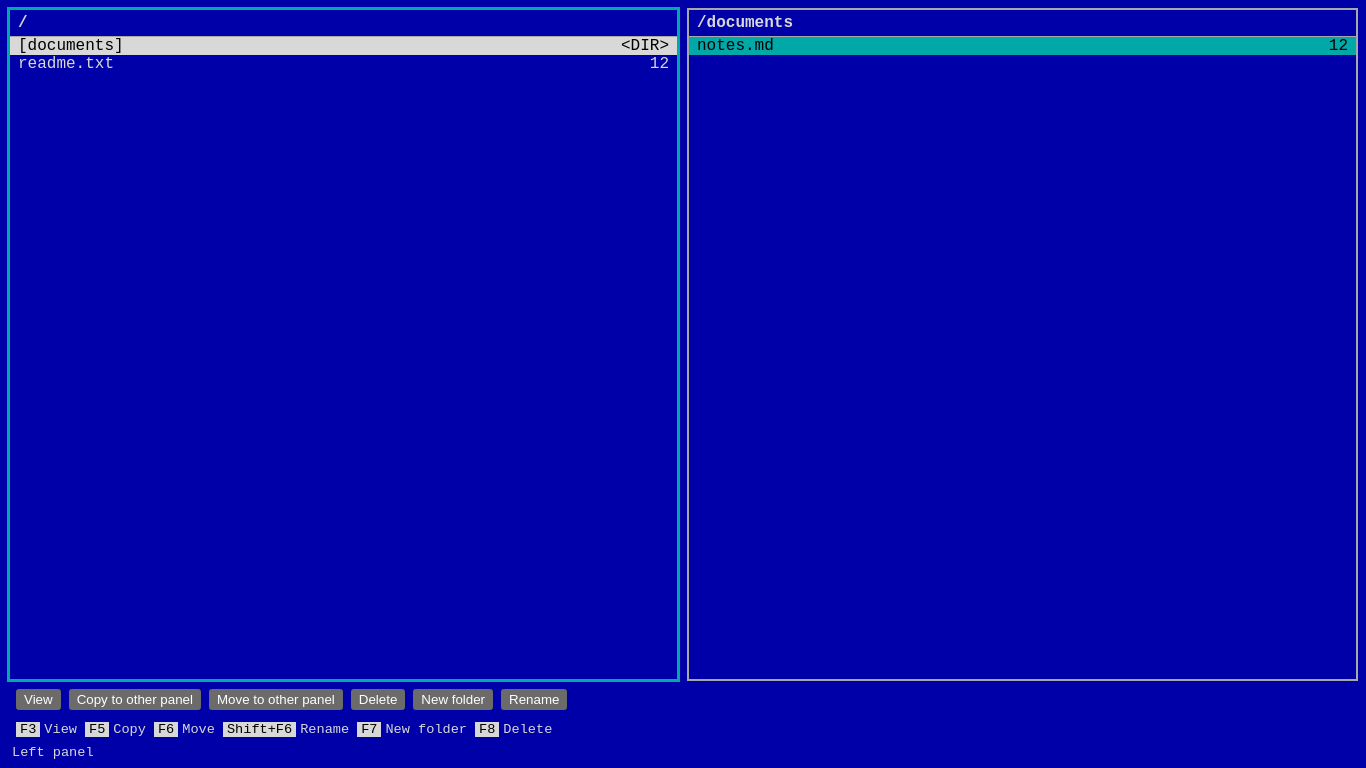
Test: §REQ:TWO-PNL-NVGT-OOX-070 creating a new folder from the active panel › §REQ:TWO-PNL-NVGT-OOX-070 the folder is created in the folder the ACTIVE panel shows
Click the element named "right panel" at (1022, 344), box x1=687 y1=8 x2=1358 y2=681
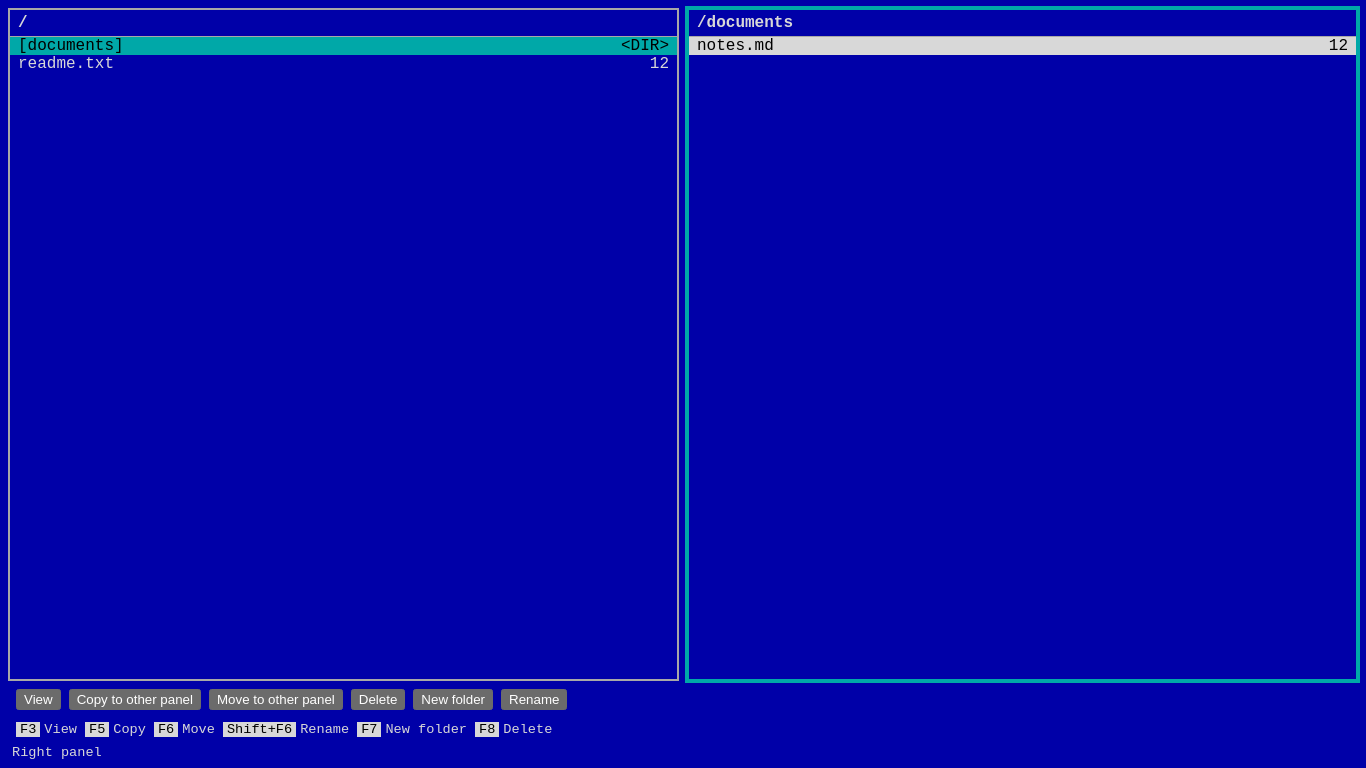
Click the button "New folder" at (453, 700), box x1=413 y1=689 x2=493 y2=710
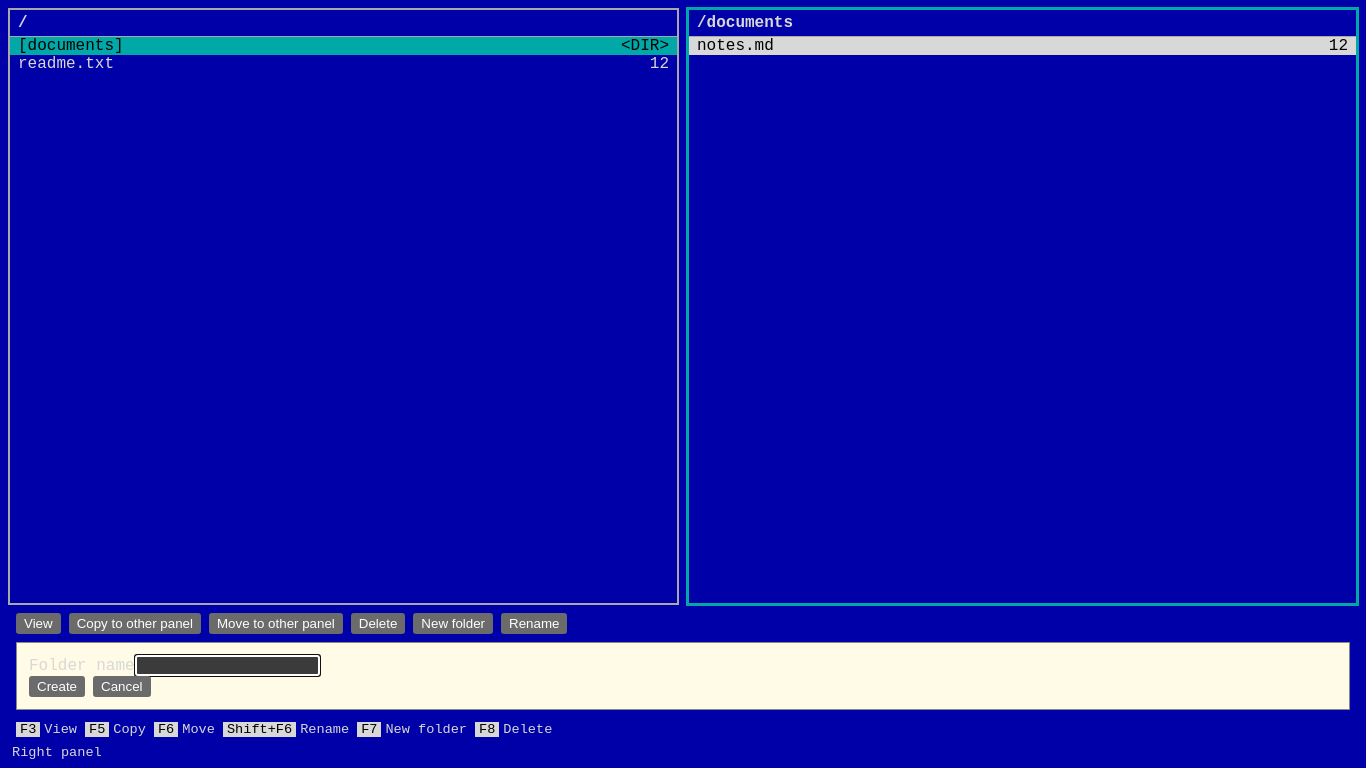
Type "drafts" into the field labelled "Folder name" at (227, 666), box x1=135 y1=655 x2=320 y2=676
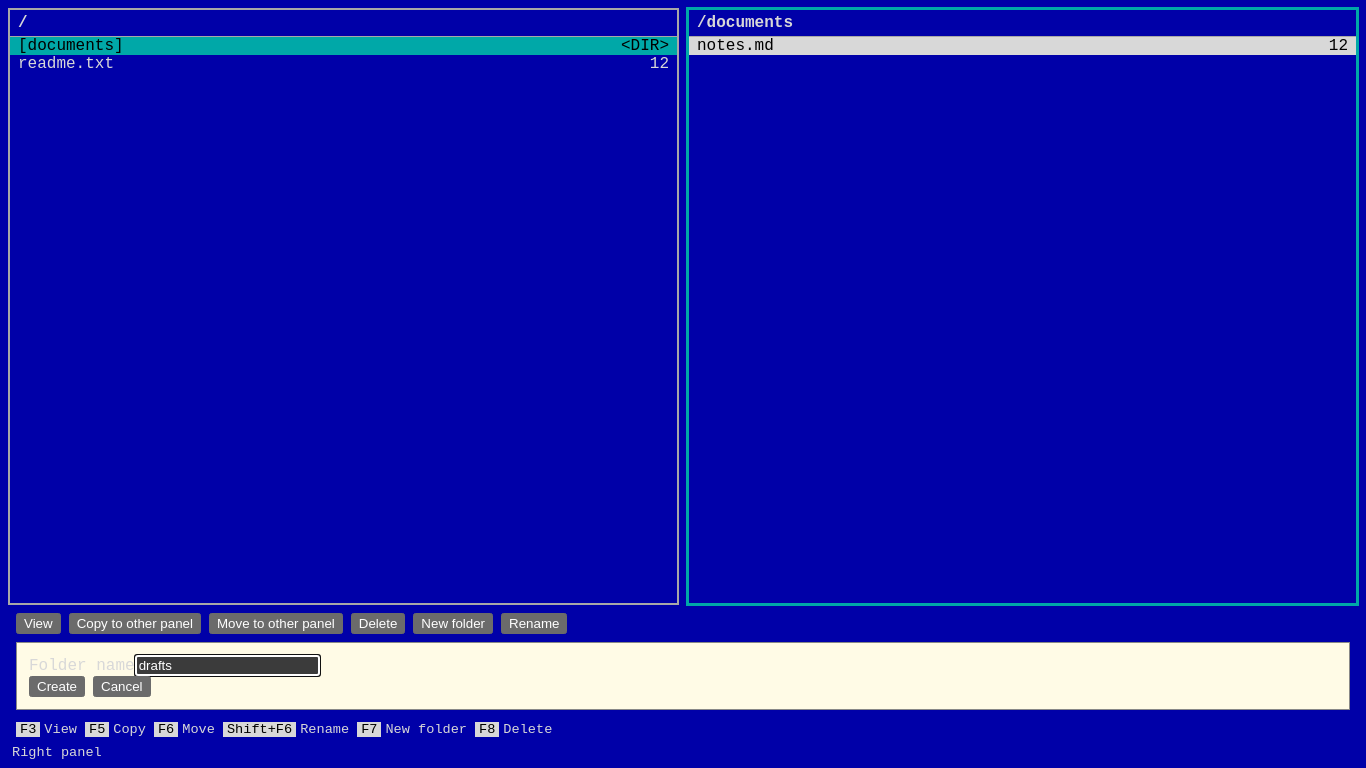
Click the button "Create" at (57, 686), box x1=29 y1=676 x2=85 y2=697
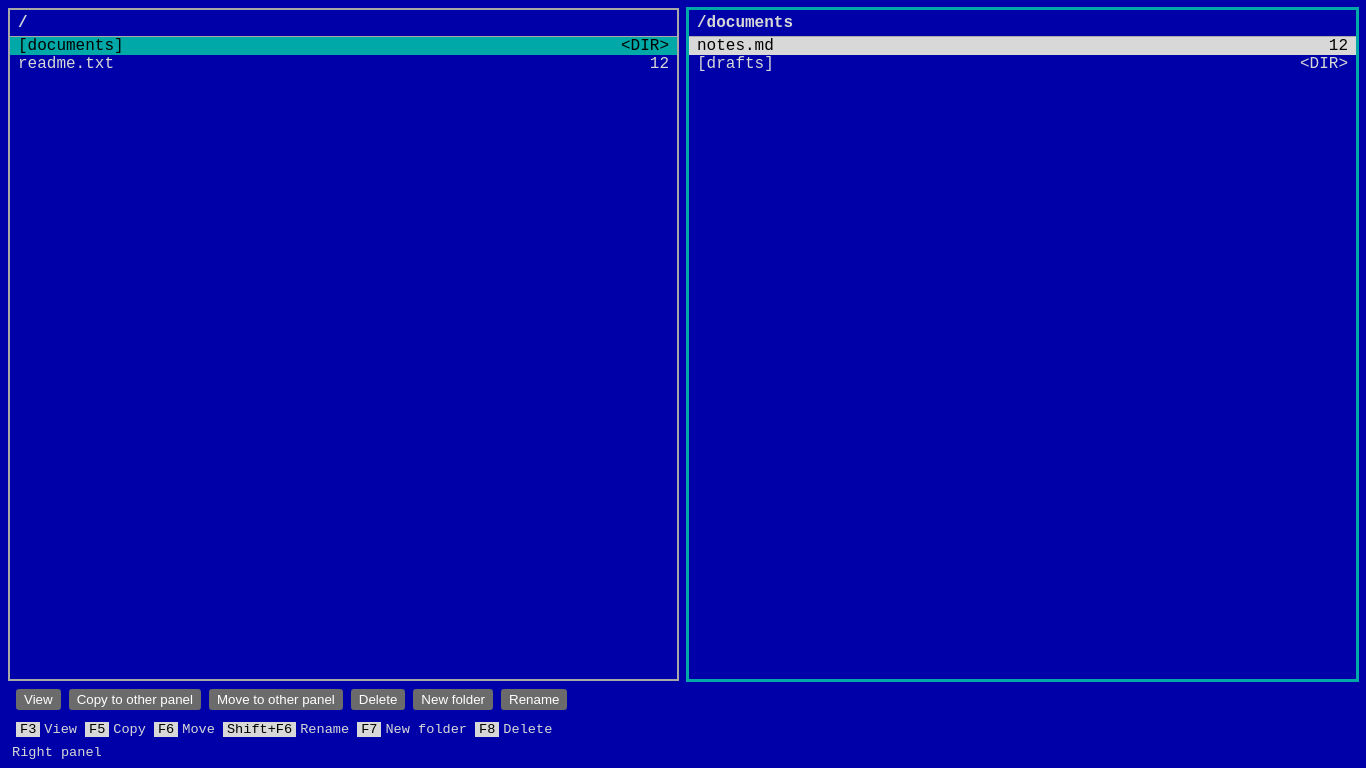
Now the option "[drafts] <DIR>" is shown, box x1=689 y1=55 x2=1356 y2=73
